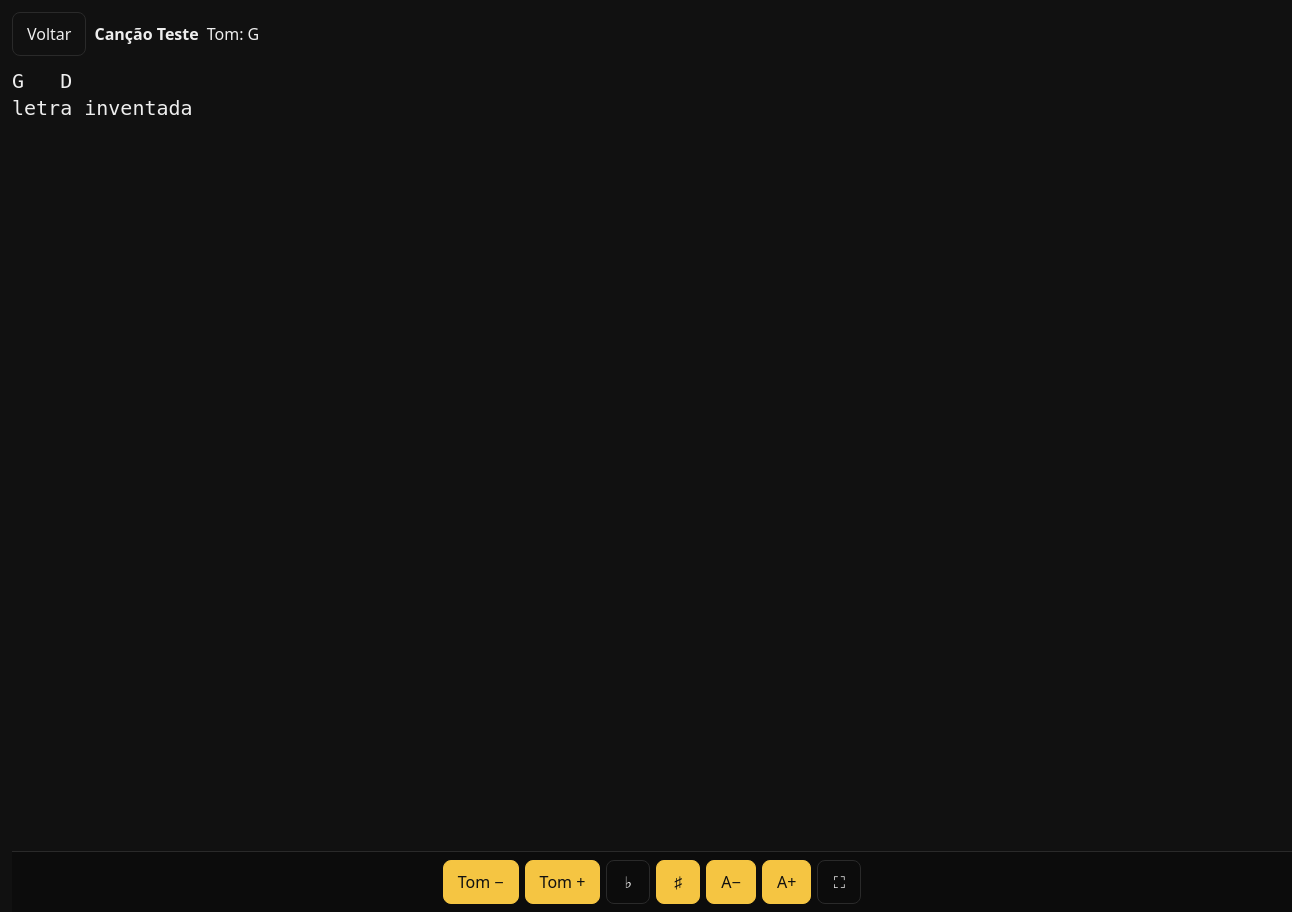
Test case: SongView › descer tom a partir de 0 vai para 11
Expected: the text named "Cifra" is shown, [12,69,193,120]
Step 1. Click the button with aria-label "Descer tom" → x=481, y=882, box [443,860,519,904]
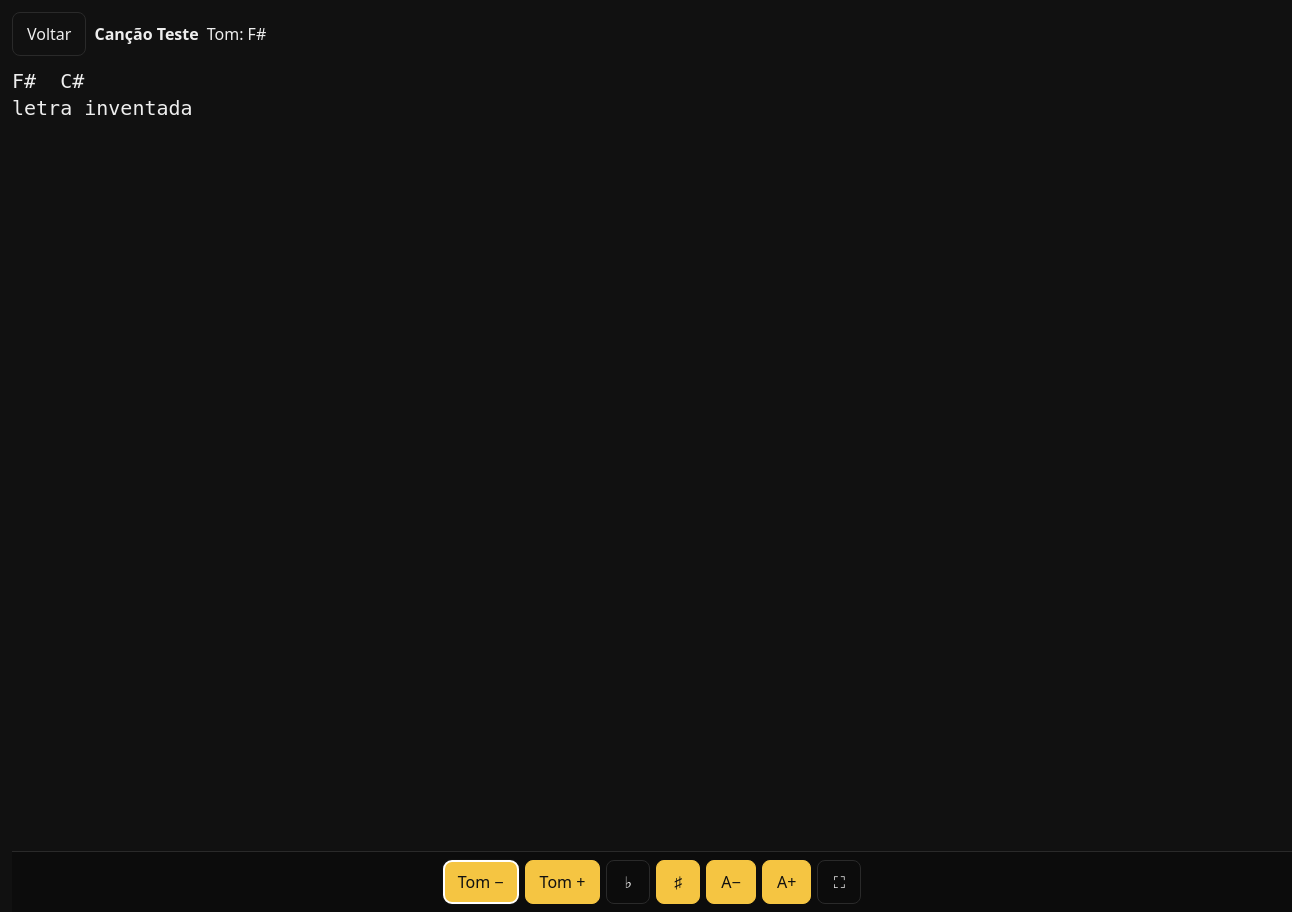
Now the text "Tom: F#" is shown, box [207,23,266,45]
